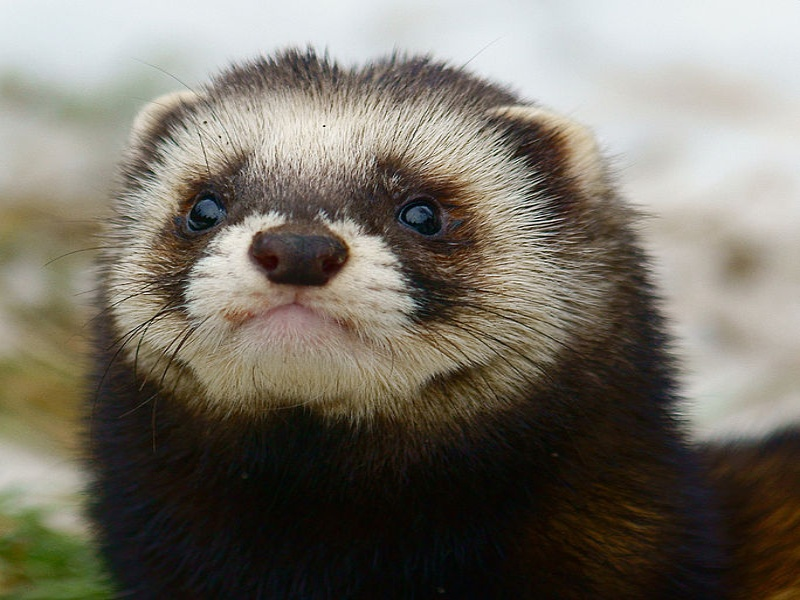minkish: (89, 55, 786, 600)
